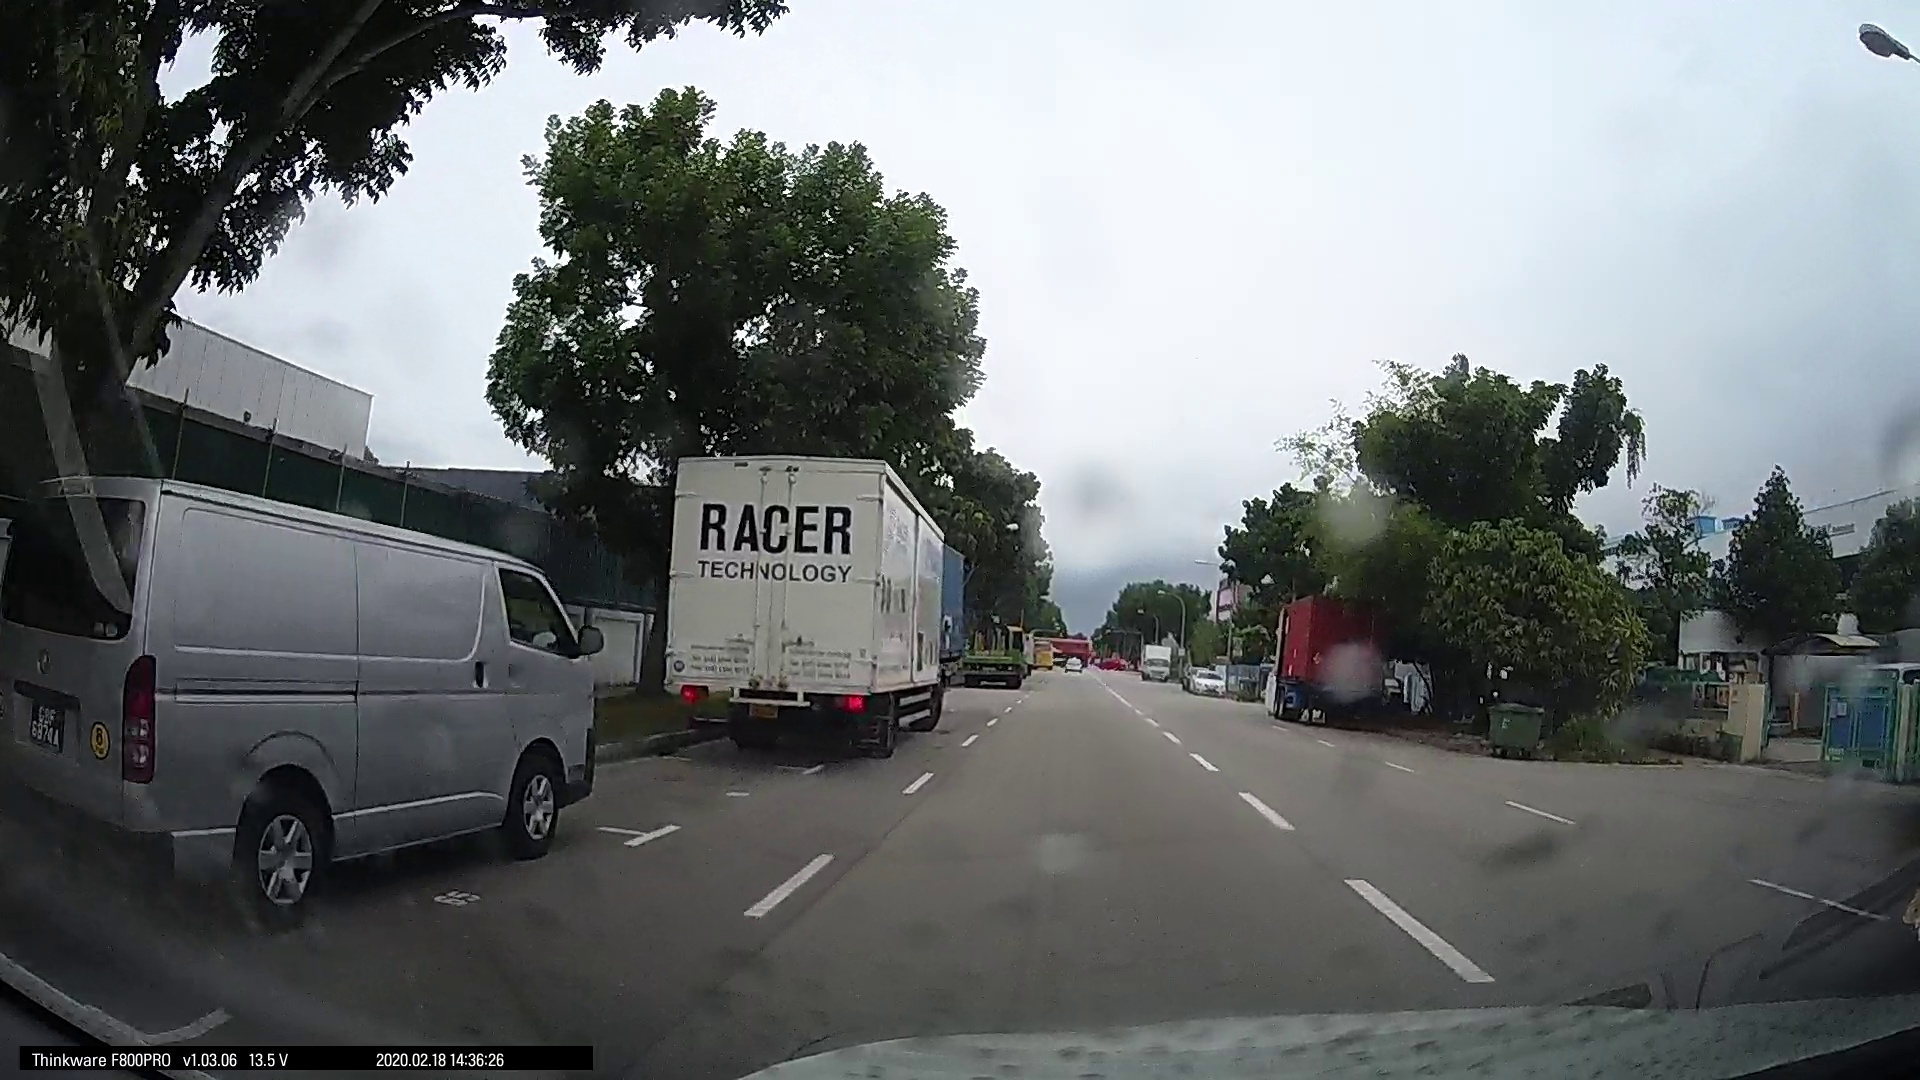Heavy Vehicle: (651, 446, 955, 764), (1265, 589, 1406, 728)
Light Vehicle: (3, 480, 597, 920), (1182, 659, 1224, 695)
